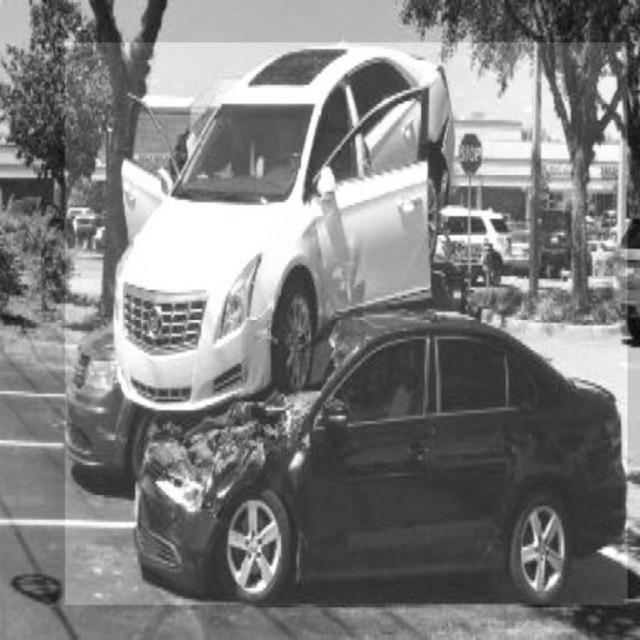accident: (65, 42, 628, 605)
